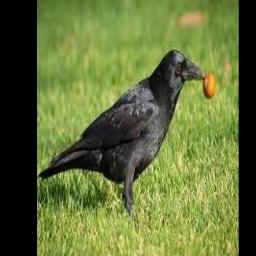Crow: (38, 48, 206, 216)
